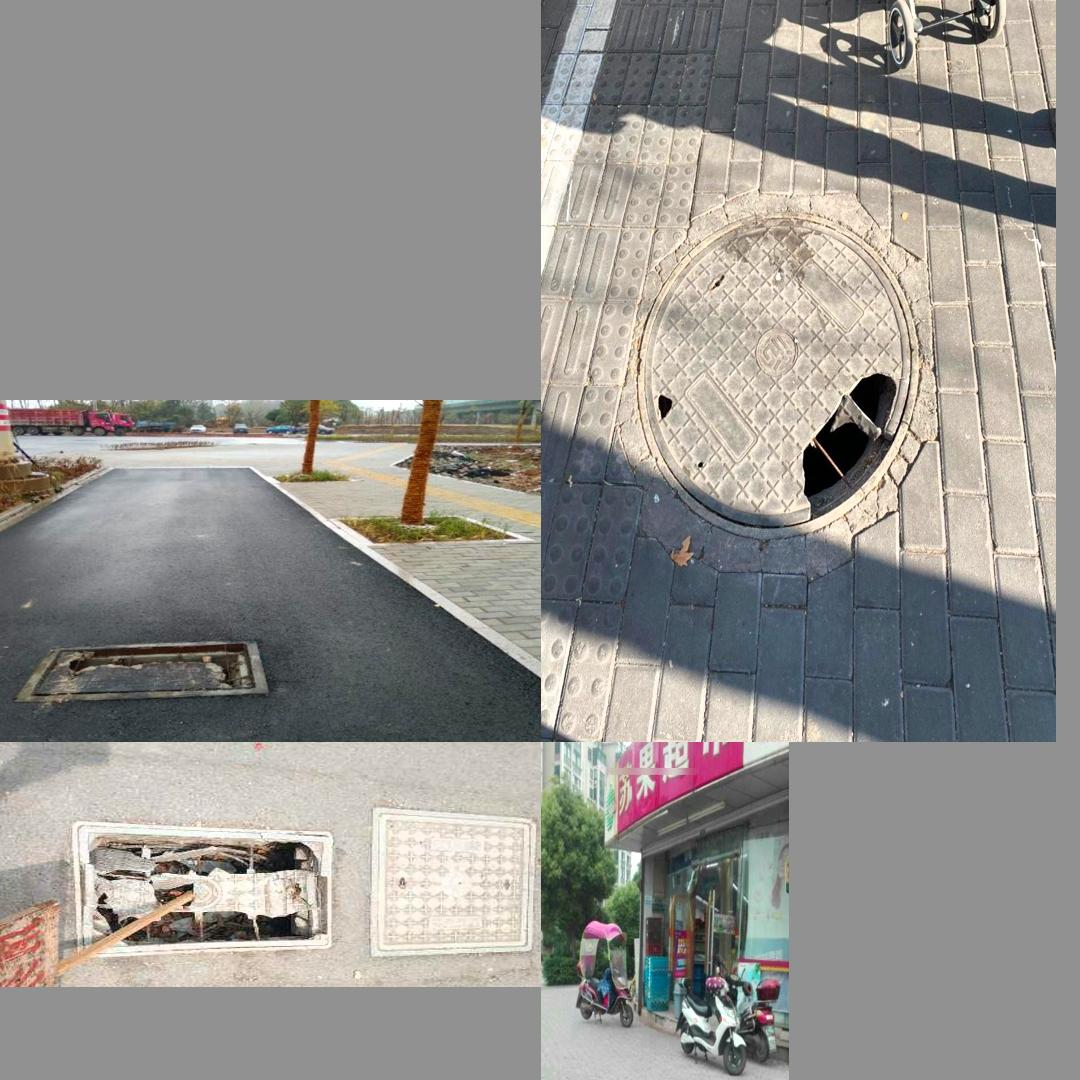broke: (636, 209, 920, 540), (74, 824, 335, 956), (13, 639, 270, 702)
good: (369, 807, 537, 957)
